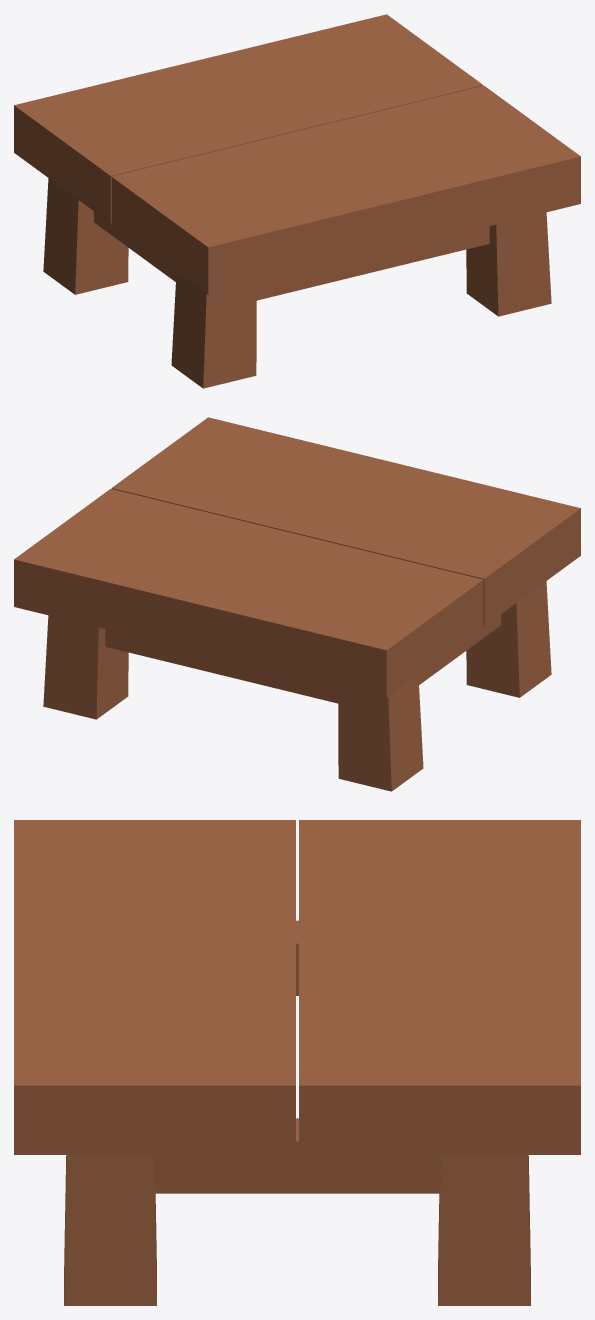
The model's file is table_short.glb.
3 renders of one model, top to bottom at view 1: azimuth 30°, elevation 25°; view 2: azimuth 150°, elevation 25°; view 3: azimuth 270°, elevation 25°, orthographic. The views are drawn at different scales.
Visible parts, largest first — view 1: table_short; view 2: table_short; view 3: table_short.
Boxes of the visible parts, box(x1,y1,x2,y2) form: table_short: box(14, 14, 580, 388); table_short: box(14, 417, 580, 791); table_short: box(14, 820, 580, 1305).
Size of the model in its own units: 0.2951 by 0.1186 by 0.2663.
1 material, 1 textured.
